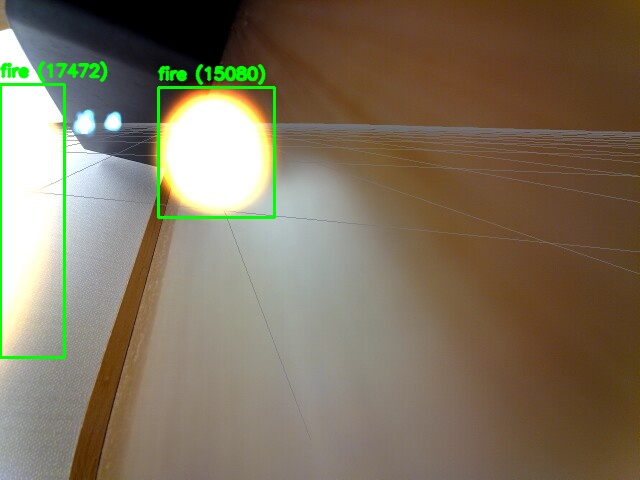fire: (0, 84, 64, 357), (158, 87, 274, 217)
